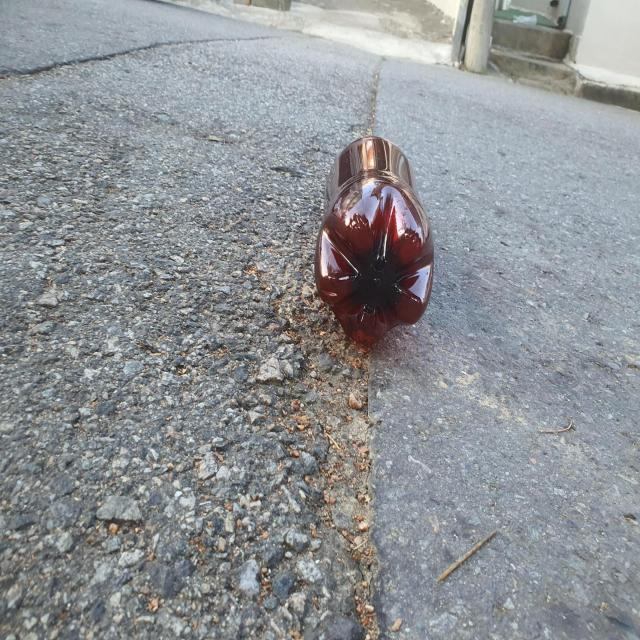plastic: (315, 135, 434, 345)
